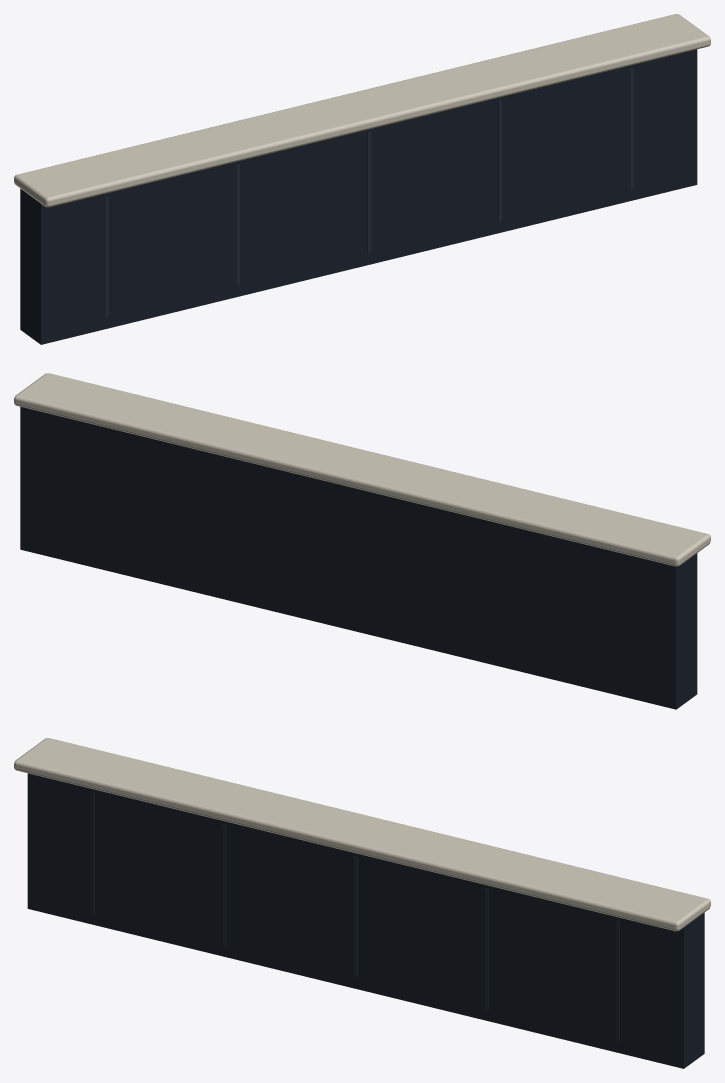
Rendered from parapeito_posto.glb.
3 views of the same model, one above another, from view 1: azimuth 30°, elevation 25°; view 2: azimuth 150°, elevation 25°; view 3: azimuth 330°, elevation 25° (orthographic).
Parts seen in each view (by area): view 1: parapeito_malha; view 2: parapeito_malha; view 3: parapeito_malha.
Boxes of the visible parts, x1,y1,x2,y2 form: parapeito_malha: (14,14,710,344); parapeito_malha: (14,373,710,709); parapeito_malha: (14,738,710,1068).
Bounding box in the file's own units: 4.06 × 0.9 × 0.36.
